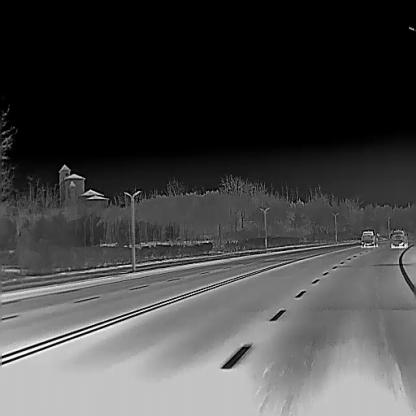car: (390, 228, 408, 248), (360, 228, 378, 247)
